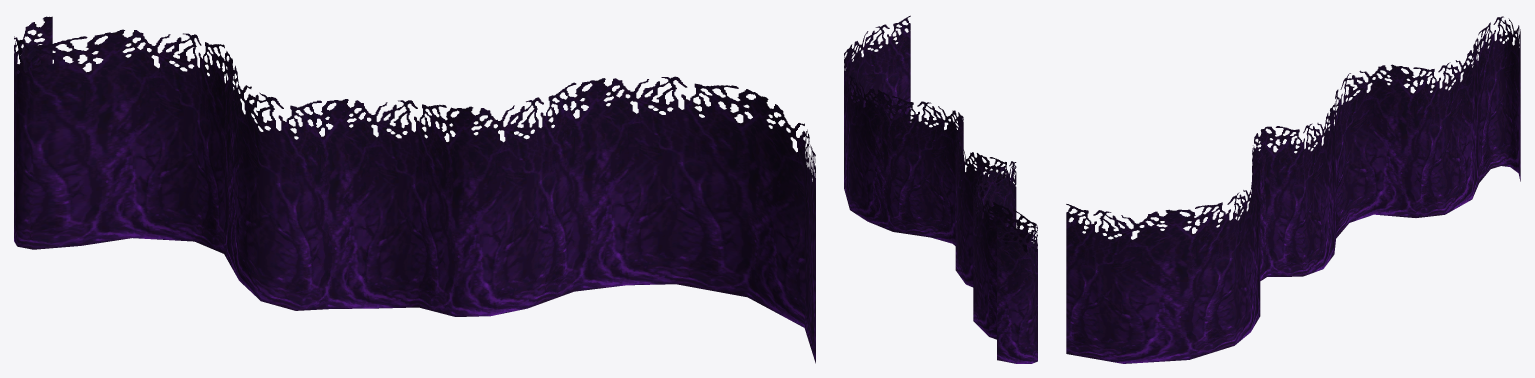
Rendered from EKH_ENTRANCE_PS_EN_TREEWALL3939847.fbx.
The picture shows the model from 3 angles, left to right: view 1: azimuth 30°, elevation 25°; view 2: azimuth 150°, elevation 25°; view 3: azimuth 270°, elevation 25°; orthographic projection. The views are drawn at different scales.
Visible parts, largest first — view 1: EKH_ENTRANCE_PS_EN_TREEWALL3939847; view 2: EKH_ENTRANCE_PS_EN_TREEWALL3939847; view 3: EKH_ENTRANCE_PS_EN_TREEWALL3939847.
Part boxes in pixels (bbox=[...]): EKH_ENTRANCE_PS_EN_TREEWALL3939847: bbox=[14, 16, 815, 363]; EKH_ENTRANCE_PS_EN_TREEWALL3939847: bbox=[844, 15, 1037, 363]; EKH_ENTRANCE_PS_EN_TREEWALL3939847: bbox=[1066, 16, 1520, 363].
Size of the model in its own units: 329017 by 143332 by 341591.
1 material, 1 textured.
